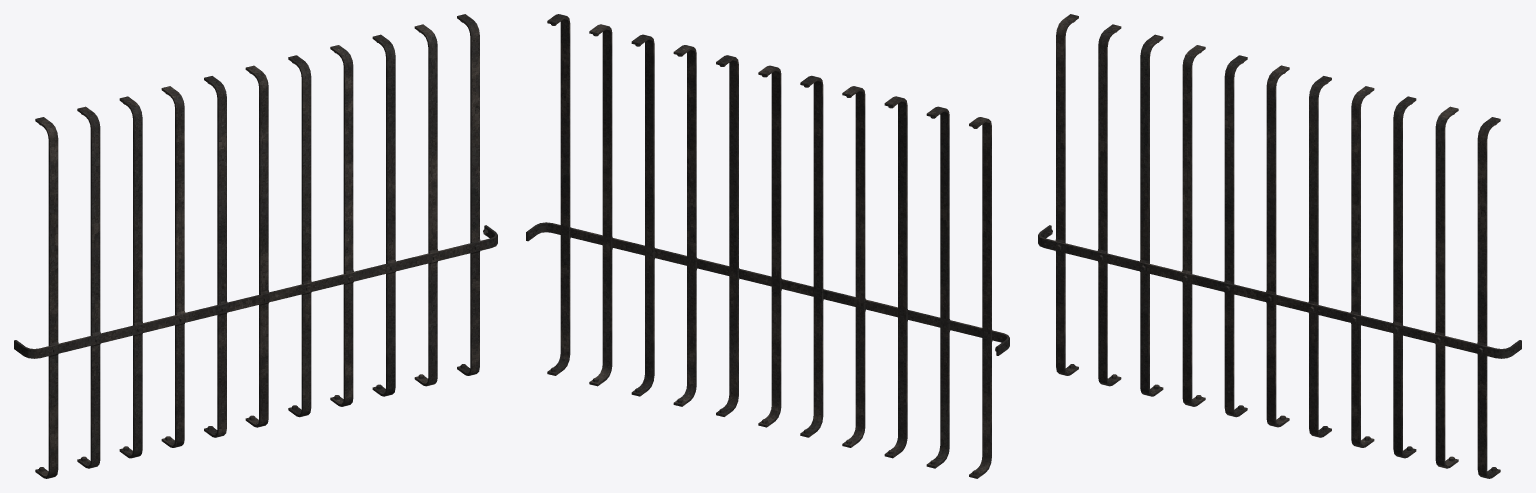
Rendered from window_metal_bars_double.glb.
The picture shows the model from 3 angles, left to right: view 1: azimuth 30°, elevation 25°; view 2: azimuth 150°, elevation 25°; view 3: azimuth 330°, elevation 25°; orthographic projection.
Parts seen in each view (by area): view 1: window_metal_bars_double; view 2: window_metal_bars_double; view 3: window_metal_bars_double.
Part boxes in pixels (x1,y1,x2,y2): window_metal_bars_double: (14, 14, 497, 478); window_metal_bars_double: (526, 14, 1009, 478); window_metal_bars_double: (1038, 14, 1521, 478).
Bounding box in the file's own units: 2.24 × 1.6 × 0.141.
Materials: 1 (1 with a texture image).
